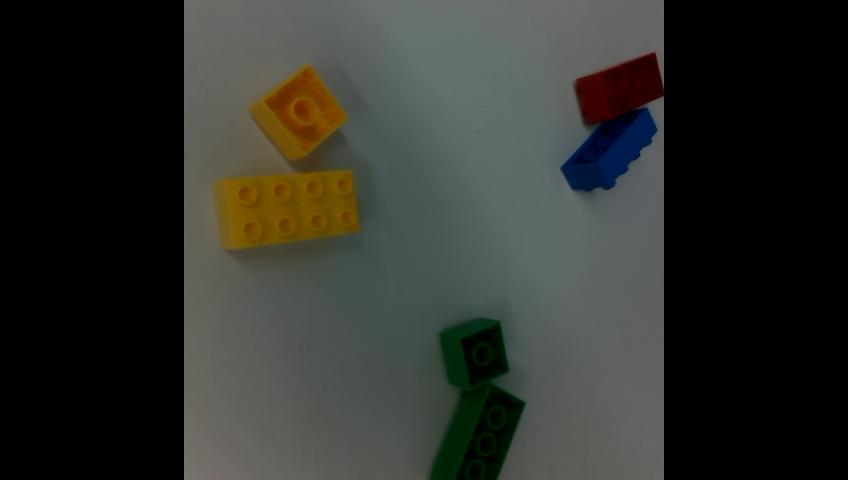2x2_green: (439, 318, 508, 389)
2x2_yellow: (249, 64, 347, 161)
4x2_blue: (561, 107, 656, 191)
4x2_green: (429, 381, 524, 480)
4x2_red: (574, 52, 663, 124)
4x2_yellow: (216, 171, 358, 249)
